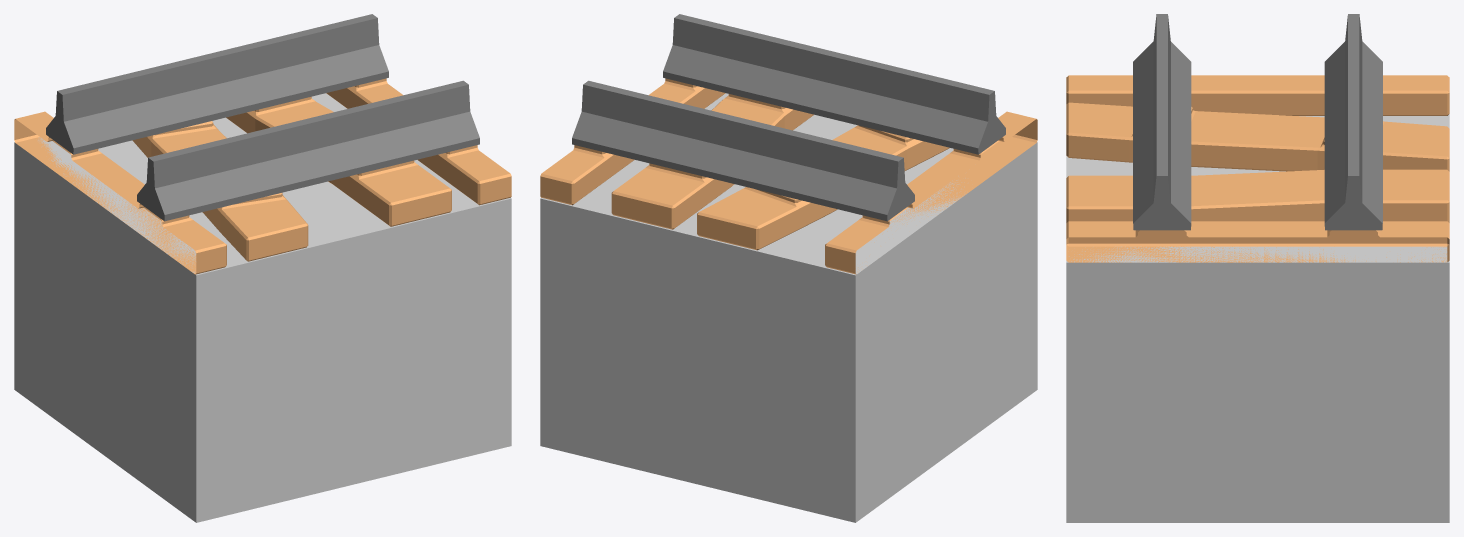
The model's file is Rail_Classique_003.fbx.
3 views of the same model, side by side, from view 1: azimuth 30°, elevation 25°; view 2: azimuth 150°, elevation 25°; view 3: azimuth 270°, elevation 25° (orthographic). The views are drawn at different scales.
Visible parts, largest first — view 1: Rail Classique.003; view 2: Rail Classique.003; view 3: Rail Classique.003.
Part boxes in pixels (x1,y1,x2,y2): Rail Classique.003: [14, 14, 511, 522]; Rail Classique.003: [540, 14, 1037, 522]; Rail Classique.003: [1066, 14, 1449, 522].
Bounding box in the file's own units: 100 × 100 × 100.
